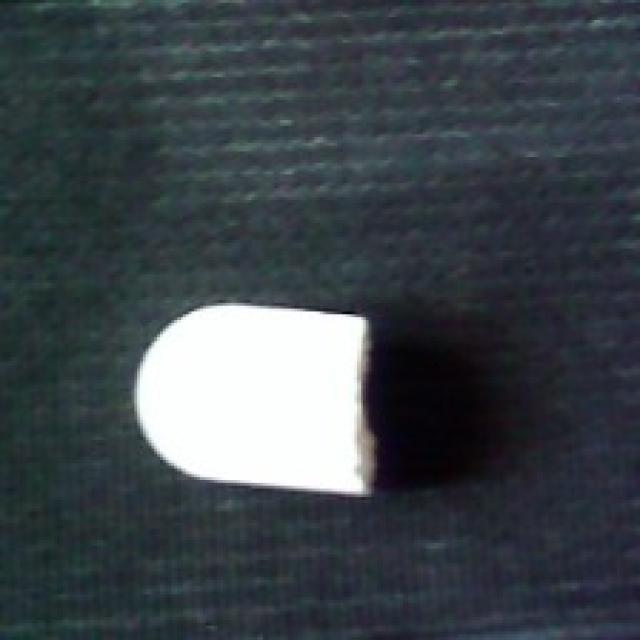defected: (128, 297, 388, 500)
